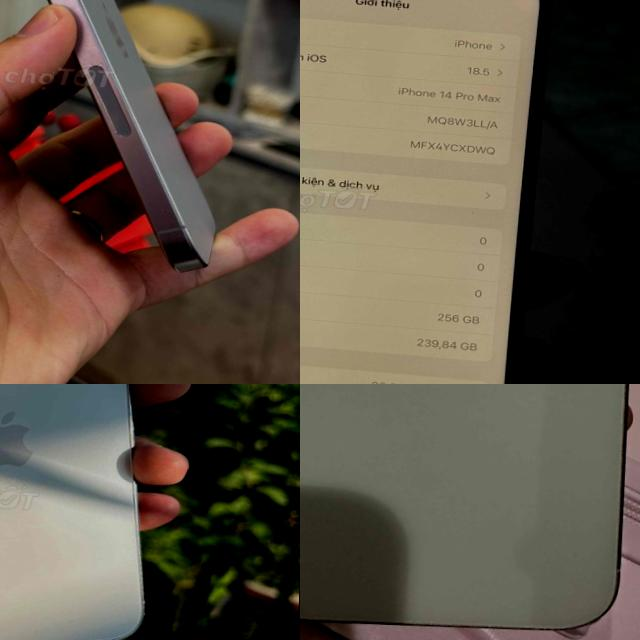gen_14: (300, 0, 548, 384), (0, 384, 173, 640)
gen_15: (300, 384, 640, 640), (0, 0, 287, 291)
